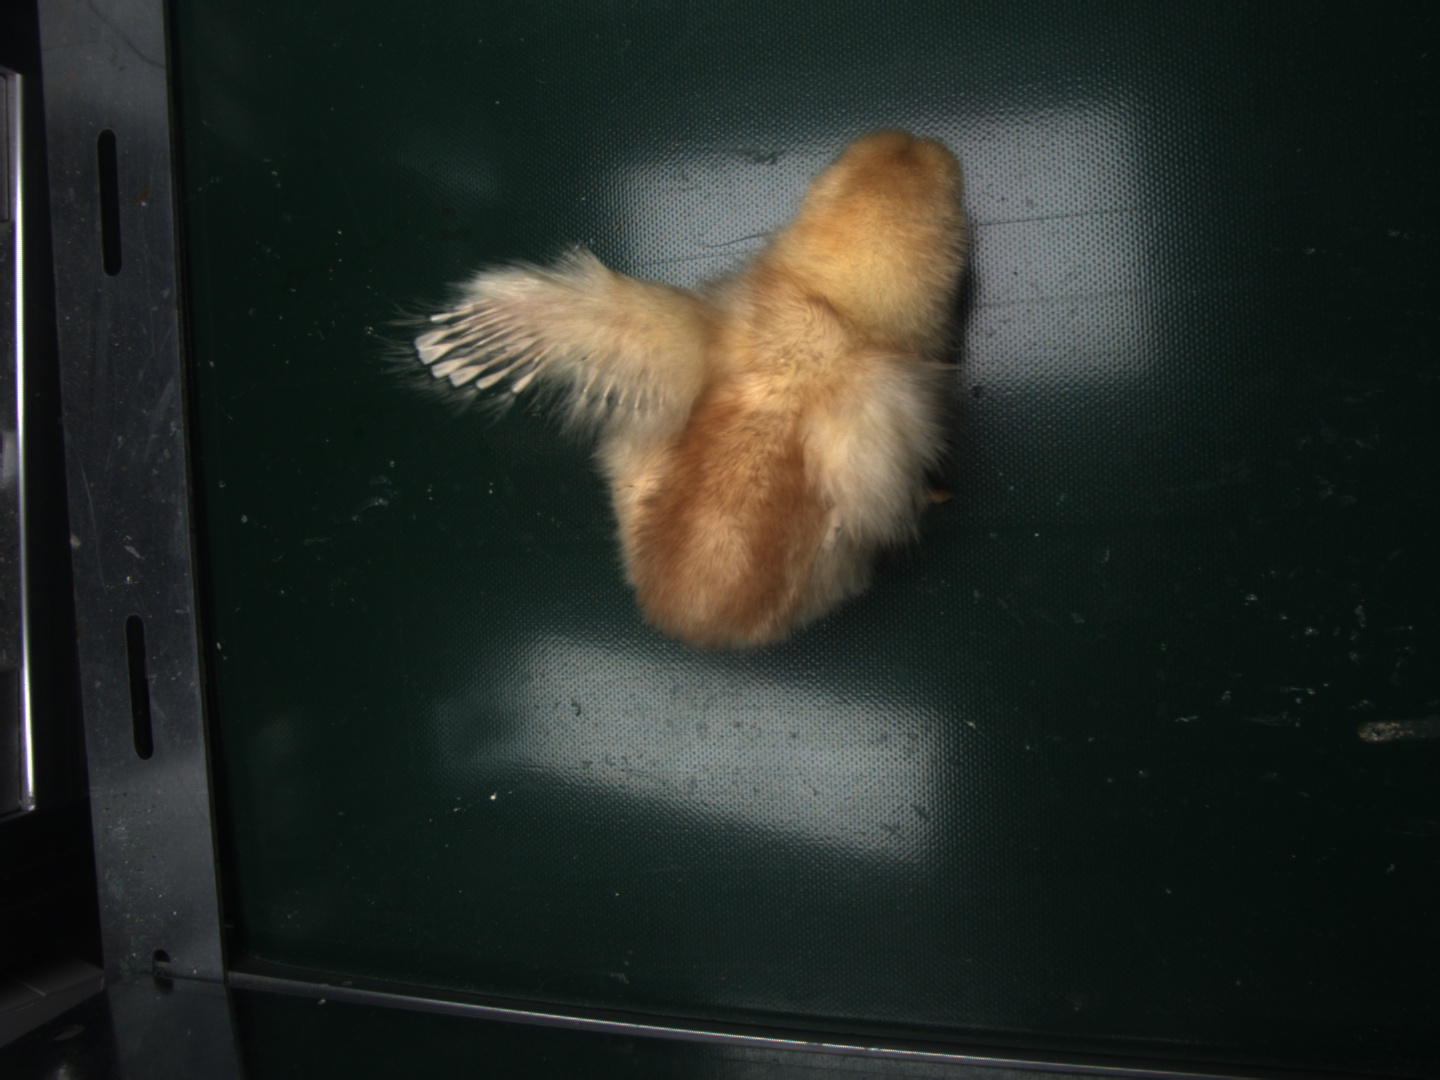female: (420, 298, 547, 388)
